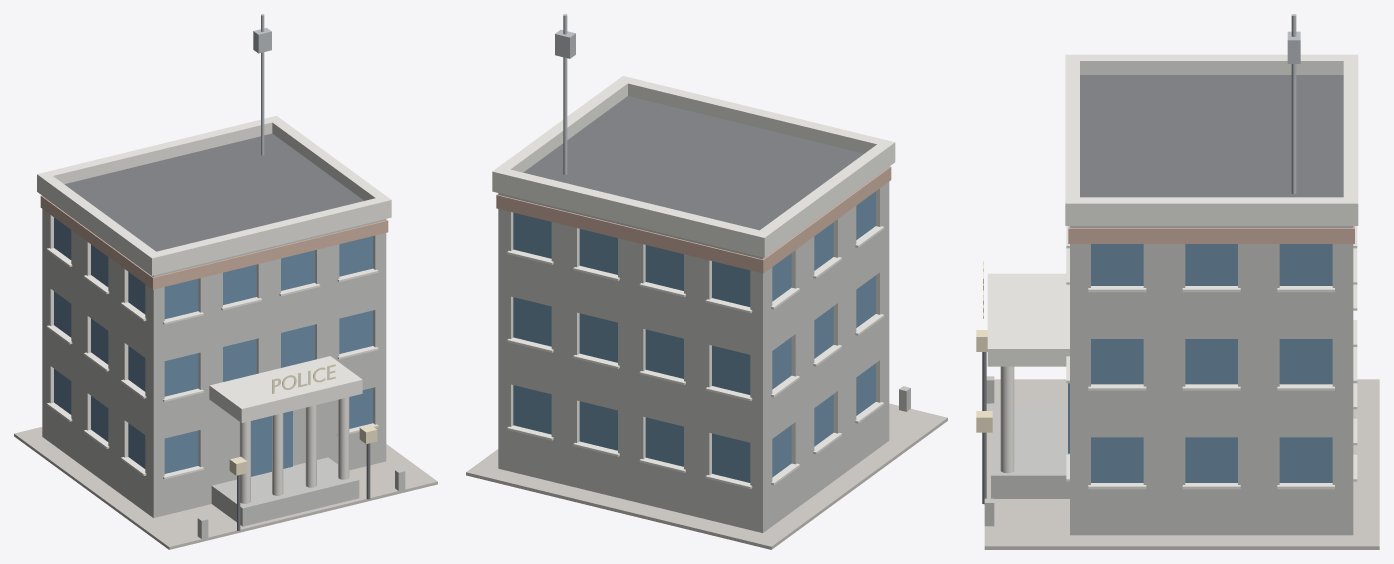
Rendered from police_station.glb.
3 views of the same model, side by side, from view 1: azimuth 30°, elevation 25°; view 2: azimuth 150°, elevation 25°; view 3: azimuth 270°, elevation 25° (orthographic). The views are drawn at different scales.
Visible parts, largest first — view 1: police_station; view 2: police_station; view 3: police_station.
Part boxes in pixels (<box>): police_station: <box>14,14,437,549</box>; police_station: <box>466,14,947,549</box>; police_station: <box>976,14,1379,549</box>.
Bounding box in the file's own units: 12 × 16.8 × 12.25.
